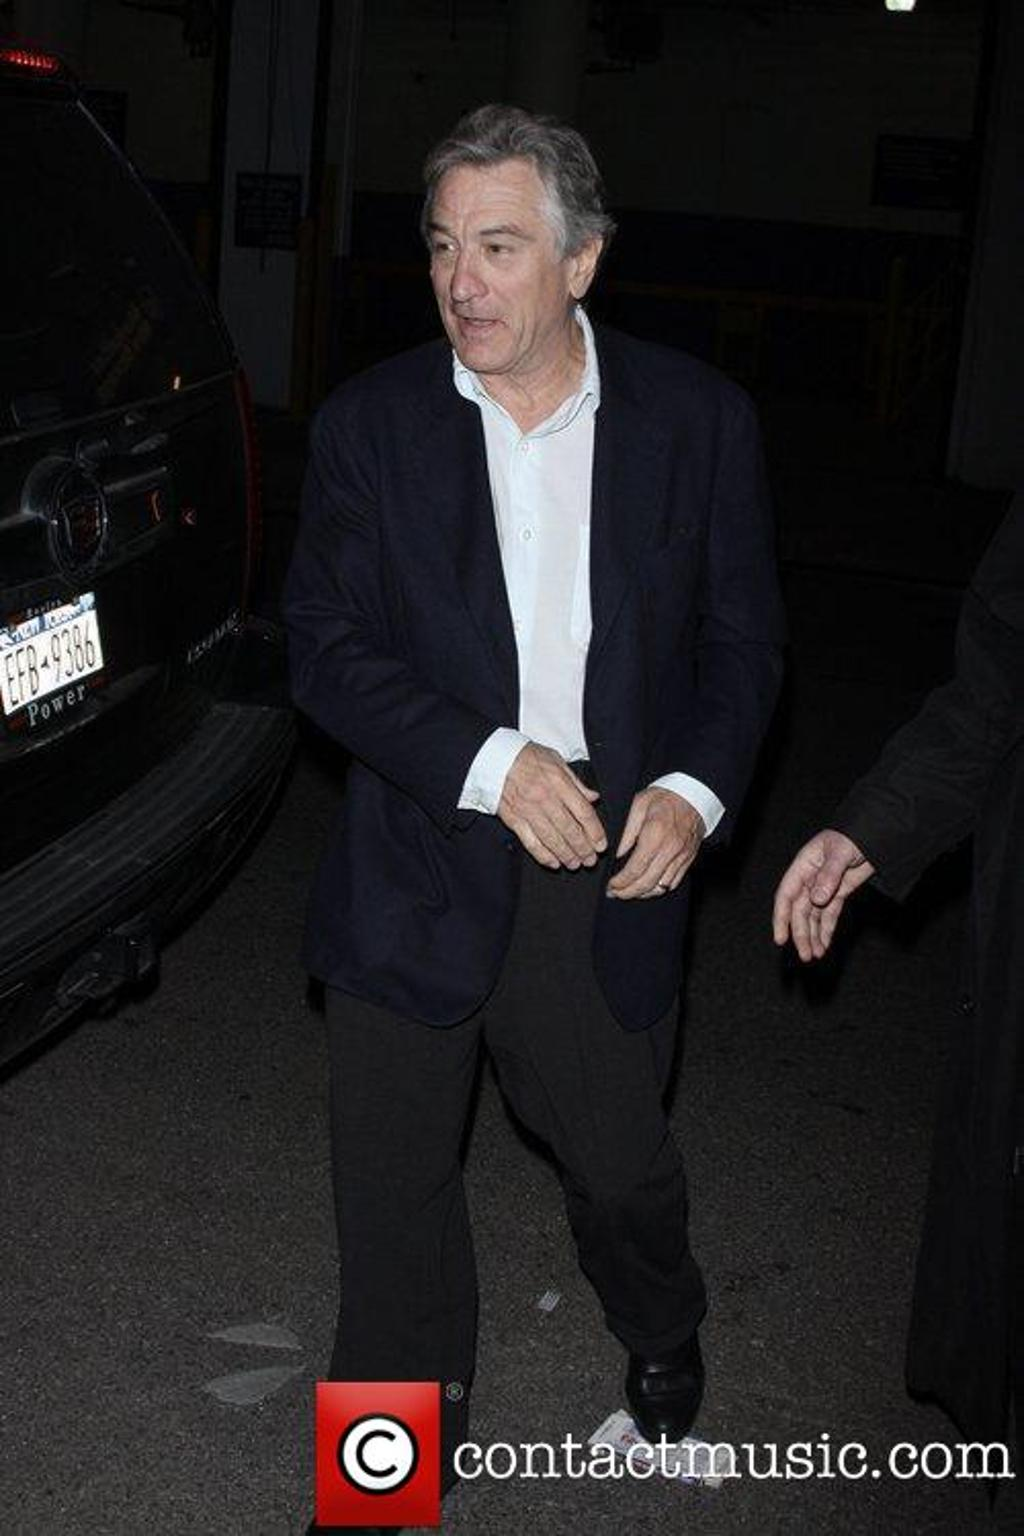face: (429, 159, 570, 366)
